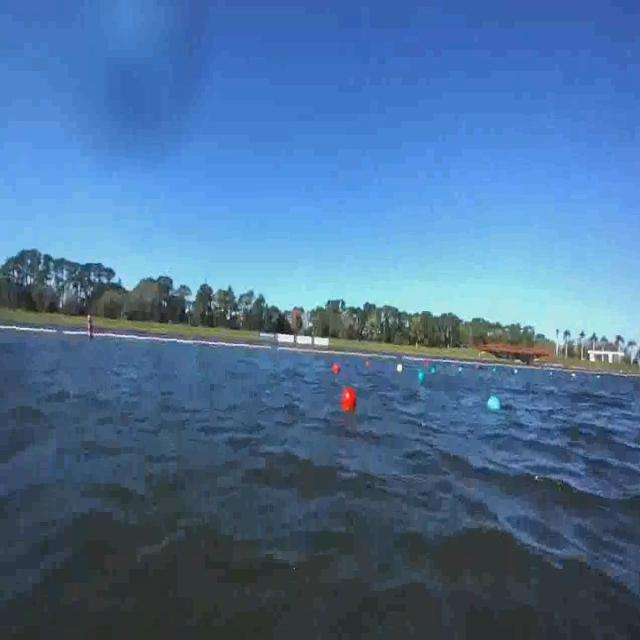green-buoy: (488, 393, 502, 412)
red-buoy: (343, 385, 358, 412), (334, 362, 342, 374)
yellow-buoy: (416, 368, 426, 387), (395, 360, 405, 379)
